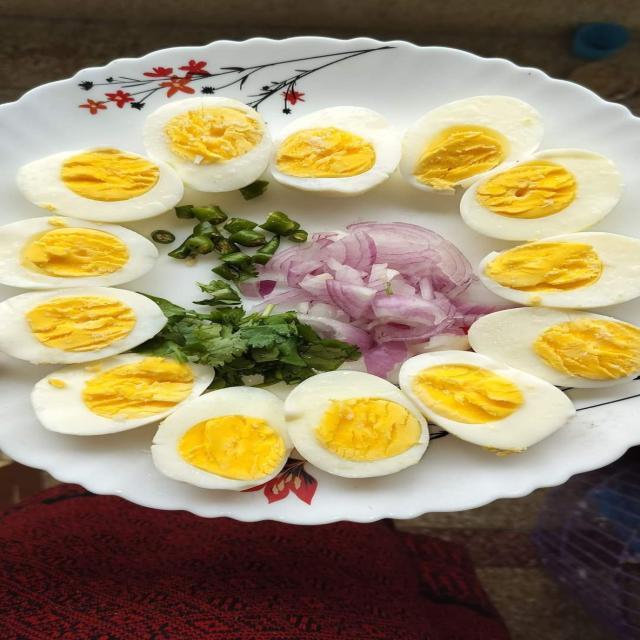eggs: (52, 107, 640, 491)
